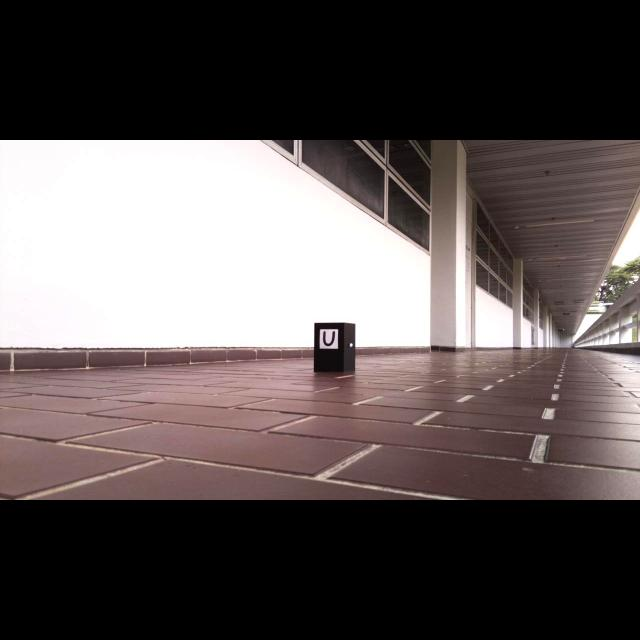U: (323, 331, 335, 346)
